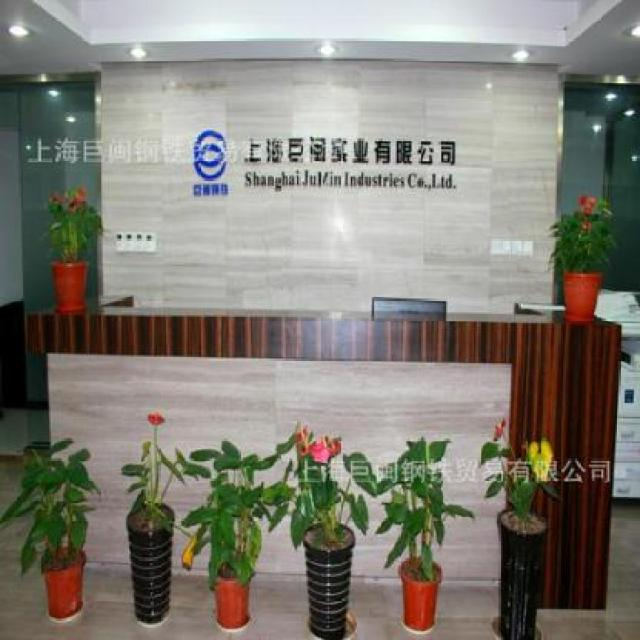frontdesk: (0, 294, 635, 636)
